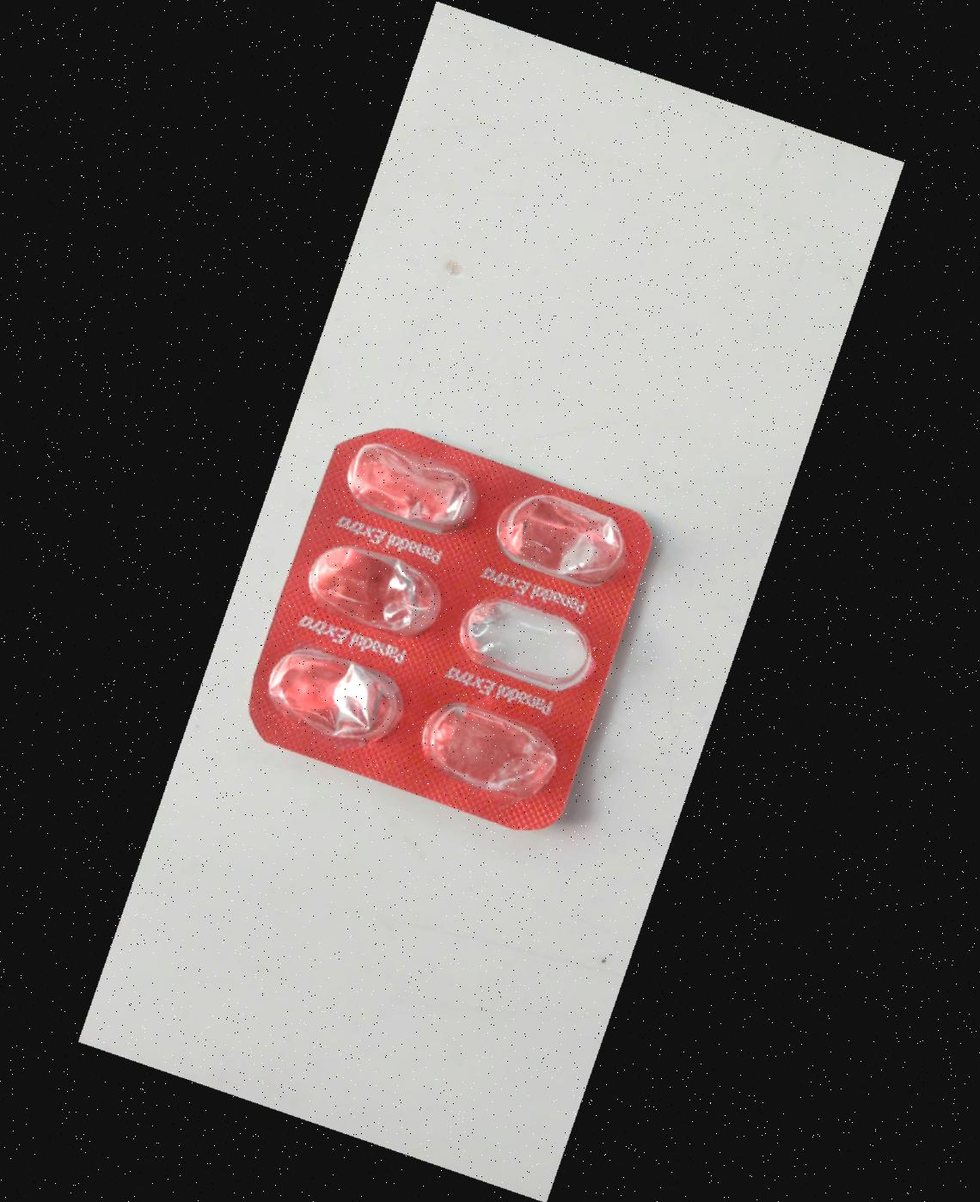Empty: (410, 685, 574, 811), (447, 577, 611, 703), (476, 475, 640, 601), (251, 632, 416, 757), (291, 528, 456, 653), (327, 427, 492, 552)
